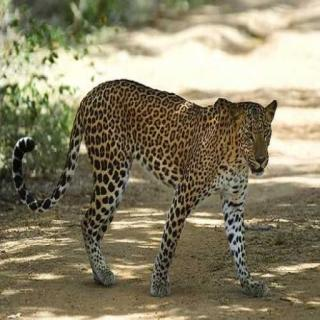Leopard: (70, 69, 274, 288)
